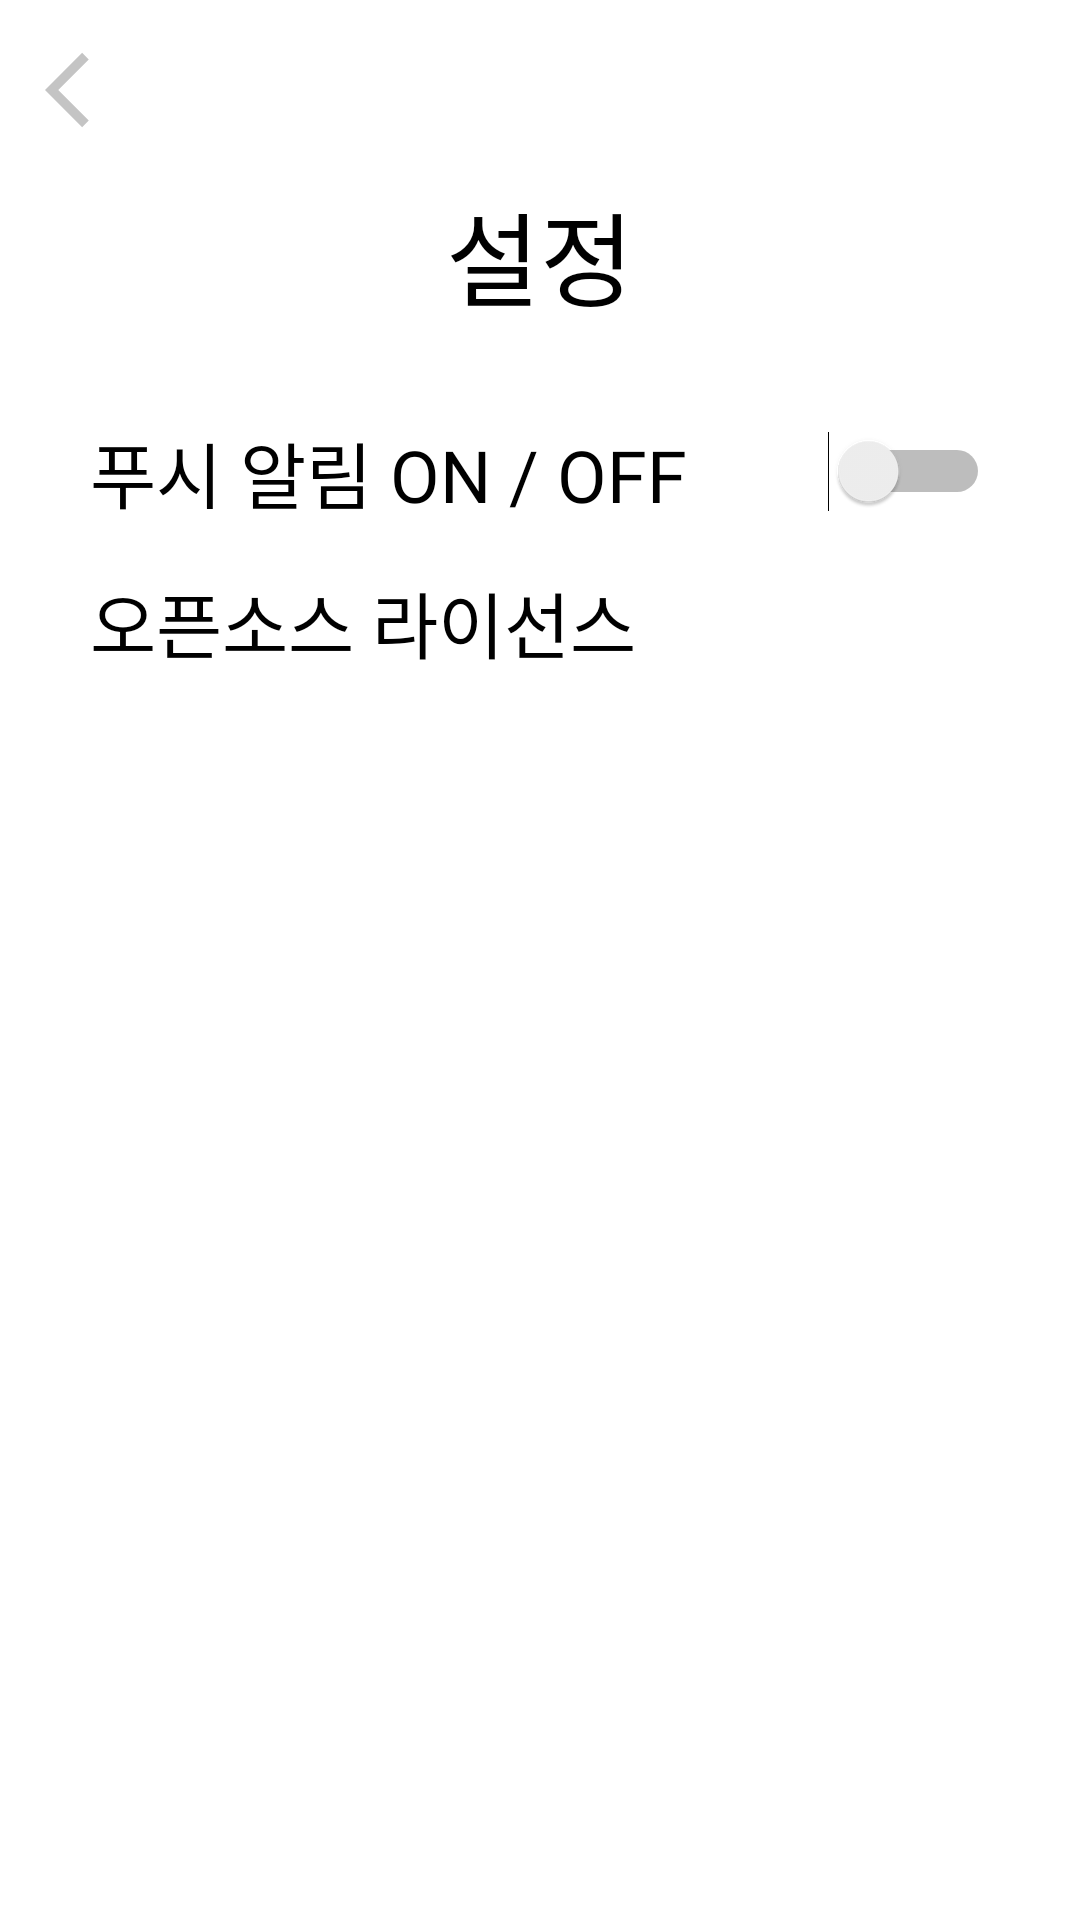

Locate icon controls on the screen. Image size 1080px x 1920px, boxes as (x1, y1, x2, y2).
back: (45, 53, 89, 127)
